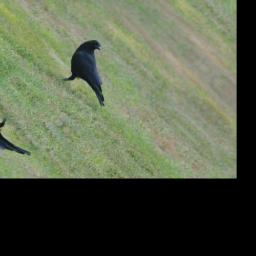Crow: (47, 36, 143, 113)
